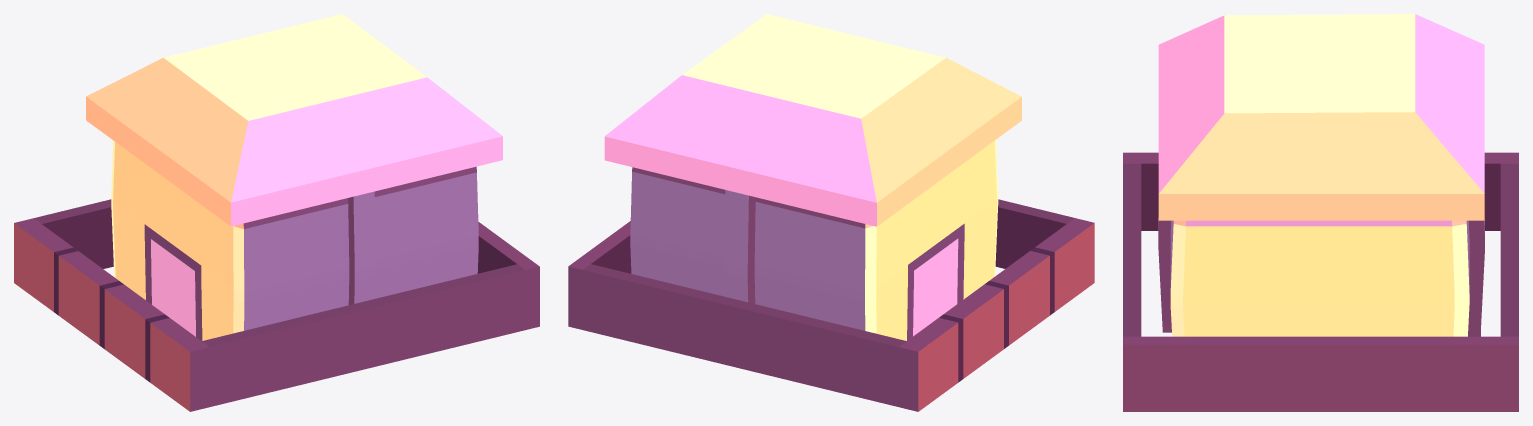
Rendered from house05.fbx.
The picture shows the model from 3 angles, left to right: view 1: azimuth 30°, elevation 25°; view 2: azimuth 150°, elevation 25°; view 3: azimuth 270°, elevation 25°; orthographic projection. The views are drawn at different scales.
Visible parts, largest first — view 1: Cube.002, Cube.005, Cube.006, Cube.004, Cube.003, Cube, Cube.000, Cube.001; view 2: Cube.002, Cube.005, Cube.006, Cube.004, Cube.003, Cube, Cube.000, Cube.001; view 3: Cube.002, Cube.003, Cube, Cube.004, Cube.005, Cube.001.
Boxes of the visible parts, x1=… form: Cube.002: x1=14, y1=166, x2=539, y2=411; Cube.005: x1=151, y1=77, x2=502, y2=336; Cube.006: x1=244, y1=172, x2=478, y2=330; Cube.004: x1=111, y1=14, x2=426, y2=333; Cube.003: x1=86, y1=57, x2=248, y2=228; Cube: x1=113, y1=142, x2=233, y2=340; Cube.000: x1=14, y1=223, x2=190, y2=411; Cube.001: x1=42, y1=207, x2=516, y2=382; Cube.002: x1=568, y1=167, x2=1094, y2=411; Cube.005: x1=604, y1=75, x2=958, y2=336; Cube.006: x1=630, y1=171, x2=865, y2=330; Cube.004: x1=682, y1=14, x2=998, y2=333; Cube.003: x1=861, y1=58, x2=1021, y2=228; Cube: x1=876, y1=140, x2=996, y2=340; Cube.000: x1=918, y1=223, x2=1094, y2=411; Cube.001: x1=591, y1=207, x2=1066, y2=382; Cube.002: x1=1123, y1=152, x2=1518, y2=411; Cube.003: x1=1158, y1=112, x2=1484, y2=226; Cube: x1=1183, y1=226, x2=1454, y2=336; Cube.004: x1=1170, y1=14, x2=1469, y2=336; Cube.005: x1=1158, y1=14, x2=1484, y2=226; Cube.001: x1=1141, y1=163, x2=1500, y2=230.
Size of the model in its own units: 5.38 by 3.46 by 4.69.
